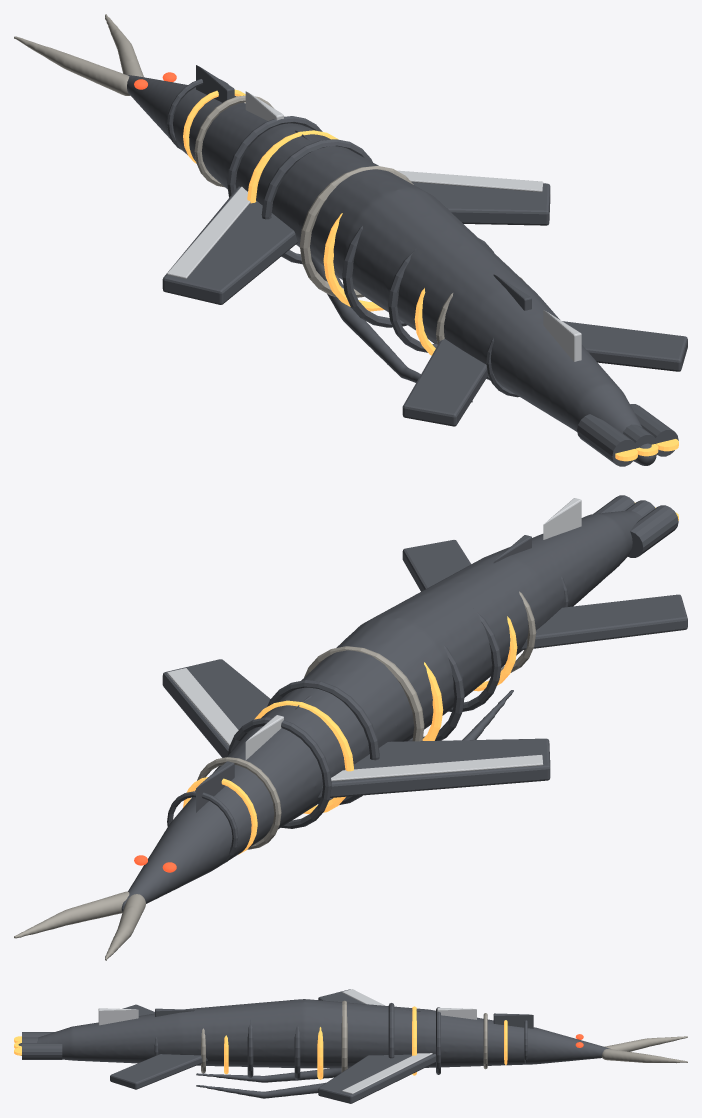
The model's file is frigate.glb.
3 views of the same model, one above another, from view 1: azimuth 30°, elevation 25°; view 2: azimuth 150°, elevation 25°; view 3: azimuth 270°, elevation 25° (orthographic). The views are drawn at different scales.
Visible parts, largest first — view 1: hull, wingF-1, wingR-1, wingF1, wingR1, wedge-1, keel-1, mand-1, rib4, eng-1, wedge1, rib3 (+10 smaller); view 2: hull, wingF-1, wingR-1, wingF1, wedge-1, wingR1, rib2, wedge1, mand1, rib3, eng-1, rib4 (+11 smaller); view 3: hull, wingF1, wingR1, keel-1, keel1, wedge1, mand1, eng1, mand-1, fin7, fin0, rib4 (+12 smaller).
Part boxes in pixels (x1,y1,x2,y2): hull: [125, 74, 656, 465]; wingF-1: [162, 186, 297, 304]; wingR-1: [402, 339, 488, 426]; wingF1: [411, 182, 550, 225]; wingR1: [562, 321, 687, 371]; wedge-1: [167, 186, 250, 278]; keel-1: [311, 256, 472, 402]; mand-1: [14, 36, 130, 95]; rib4: [299, 166, 413, 297]; eng-1: [577, 414, 636, 466]; wedge1: [397, 170, 543, 192]; rib3: [261, 139, 372, 264]; hull: [121, 510, 642, 911]; wingF-1: [317, 738, 550, 798]; wingR-1: [521, 594, 687, 650]; wingF1: [162, 659, 270, 757]; wedge-1: [331, 754, 543, 781]; wingR1: [402, 540, 470, 591]; rib2: [228, 717, 331, 828]; wedge1: [167, 668, 238, 745]; mand1: [14, 891, 129, 938]; rib3: [267, 680, 379, 804]; eng-1: [628, 505, 678, 557]; rib4: [304, 646, 424, 741]; hull: [18, 999, 610, 1068]; wingF1: [318, 1054, 435, 1103]; wingR1: [110, 1054, 207, 1089]; keel-1: [196, 1068, 341, 1082]; keel1: [196, 1082, 325, 1098]; wedge1: [342, 1053, 432, 1094]; mand1: [601, 1049, 687, 1063]; eng1: [22, 1043, 62, 1059]; mand-1: [604, 1036, 687, 1051]; fin7: [98, 1008, 138, 1025]; fin0: [493, 1013, 533, 1028]; rib4: [341, 1000, 347, 1072].
Size of the model in its own units: 1.89 by 0.7233 by 5.02.
